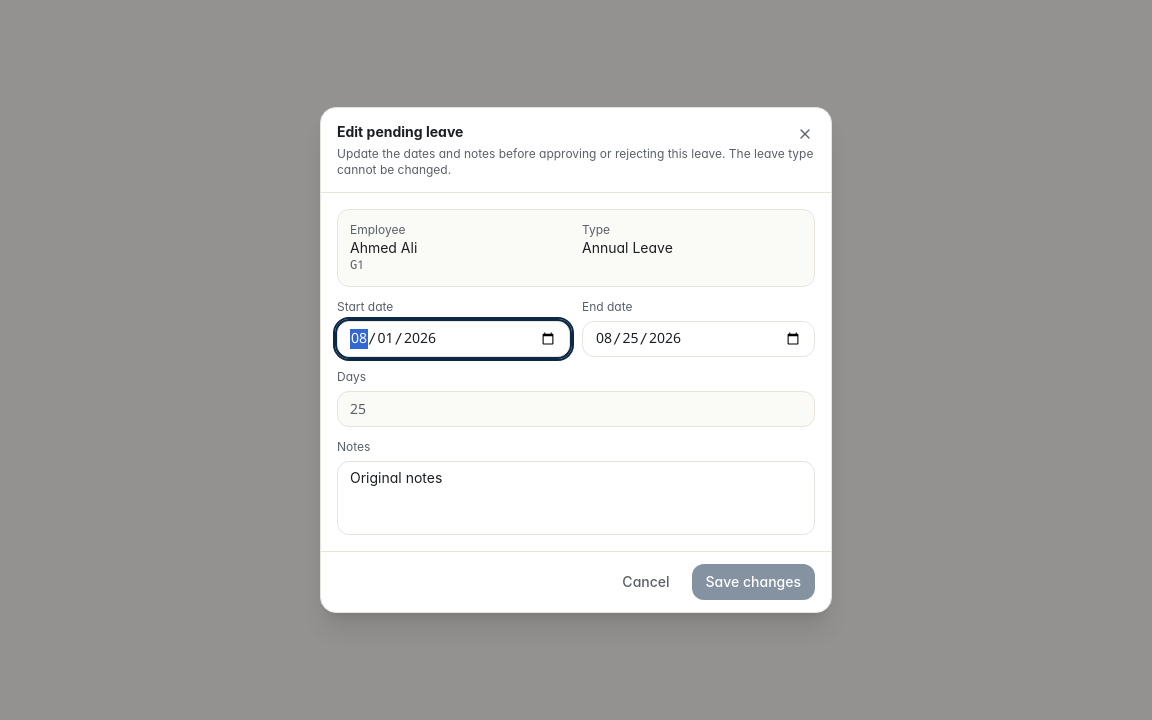
Test: EditLeaveDialog › blocks end-before-start with localized validation in en
Type "2026-07-31" into the date field labelled "End date" at (698, 339), box [582,321,815,357]
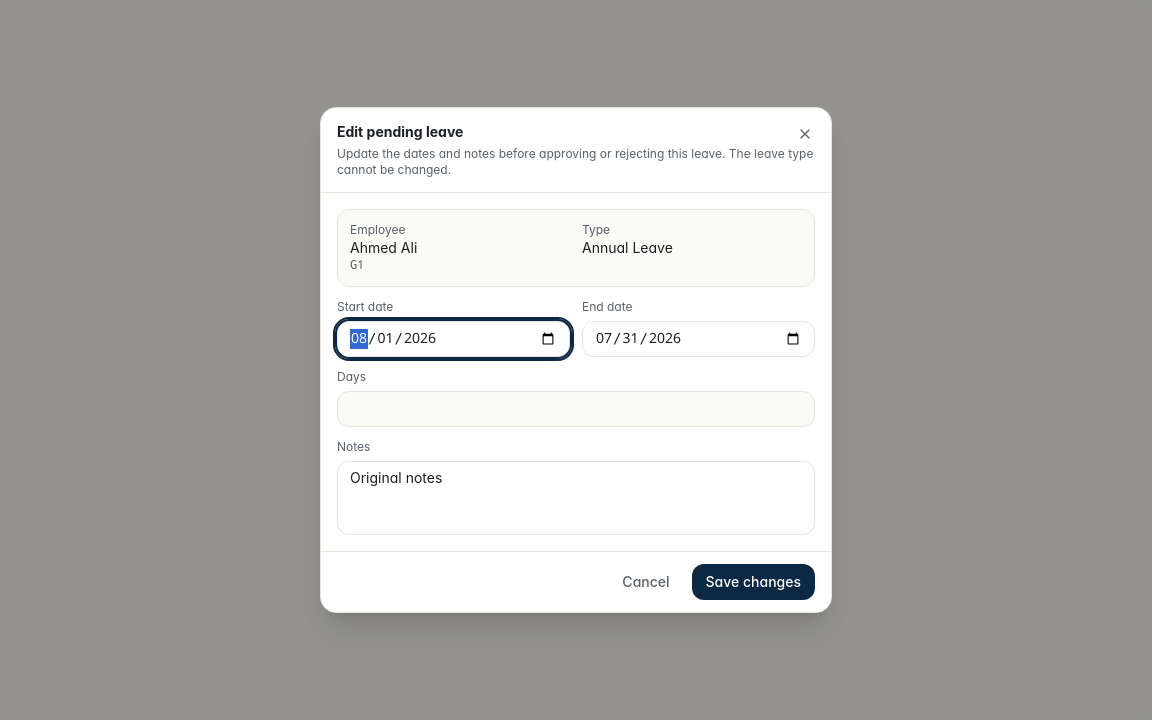
Click the button "Save changes" at (753, 582), box [692,564,815,600]
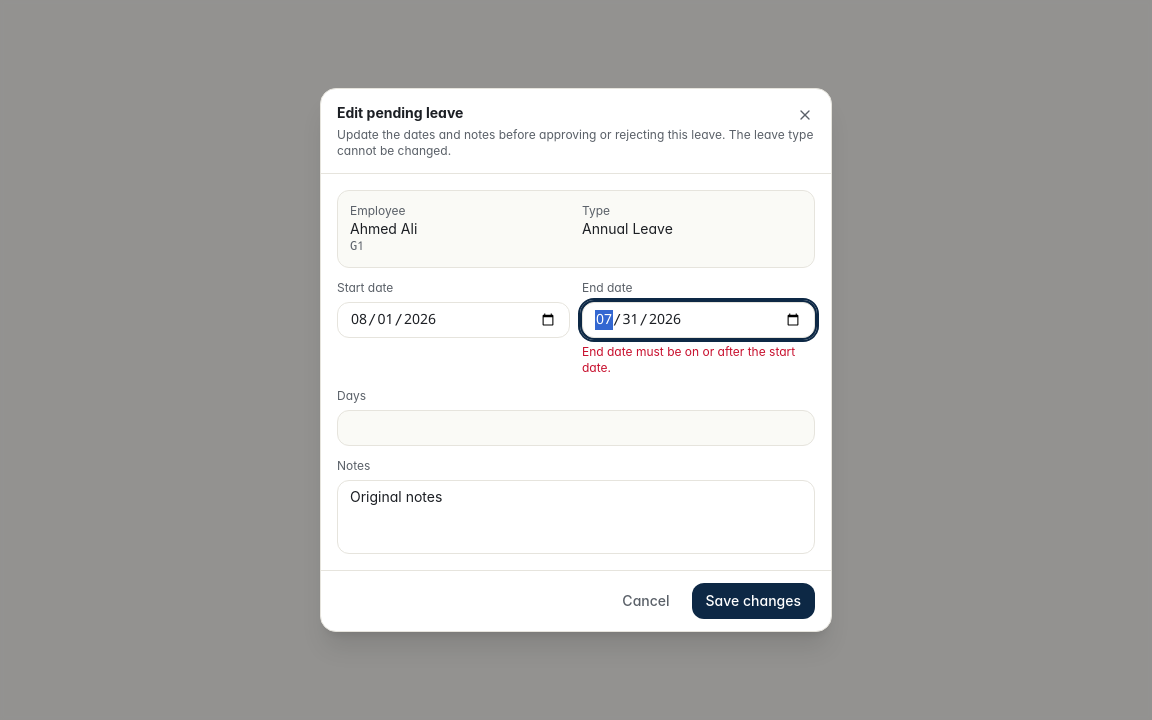
expect the message reads "End date must be on or after the start date.": met, box [582,344,795,375]
